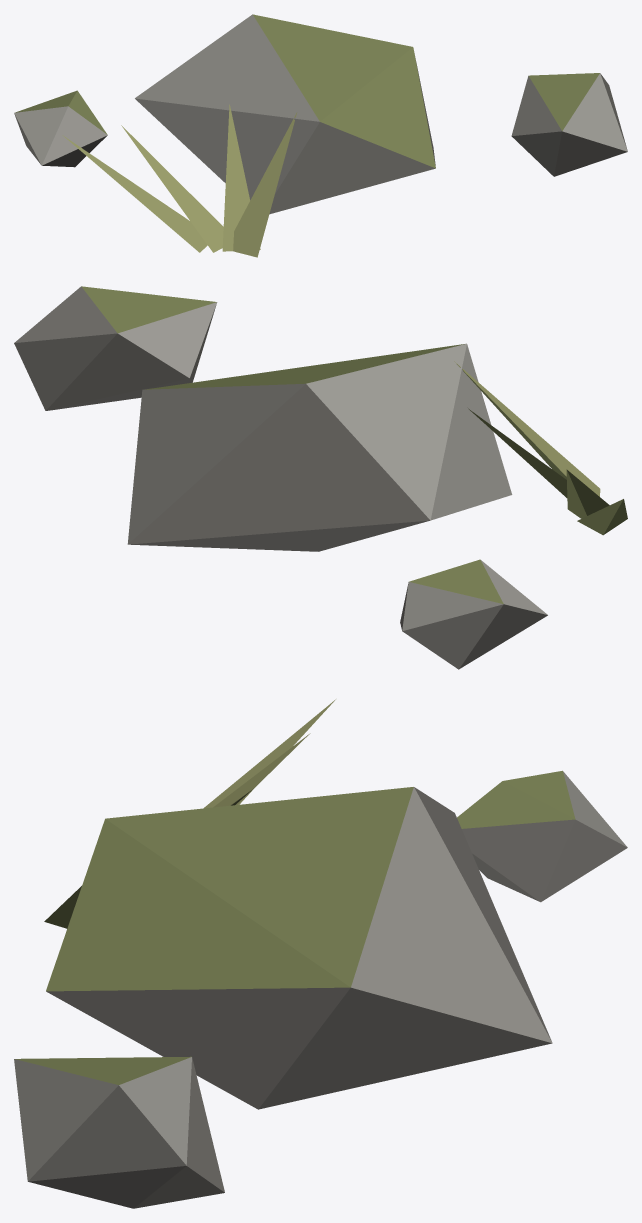
Rendered from prop_temperate_pebbles_1.glb.
3 renders of one model, top to bottom at view 1: azimuth 30°, elevation 25°; view 2: azimuth 150°, elevation 25°; view 3: azimuth 270°, elevation 25°, orthographic. The views are drawn at different scales.
Visible parts, largest first — view 1: Body; view 2: Body; view 3: Body.
Boxes of the visible parts, x1,y1,x2,y2 form: Body: [14, 14, 627, 257]; Body: [14, 286, 627, 669]; Body: [14, 699, 627, 1208].
Bounding box in the file's own units: 0.9146 × 0.2491 × 0.5896.
